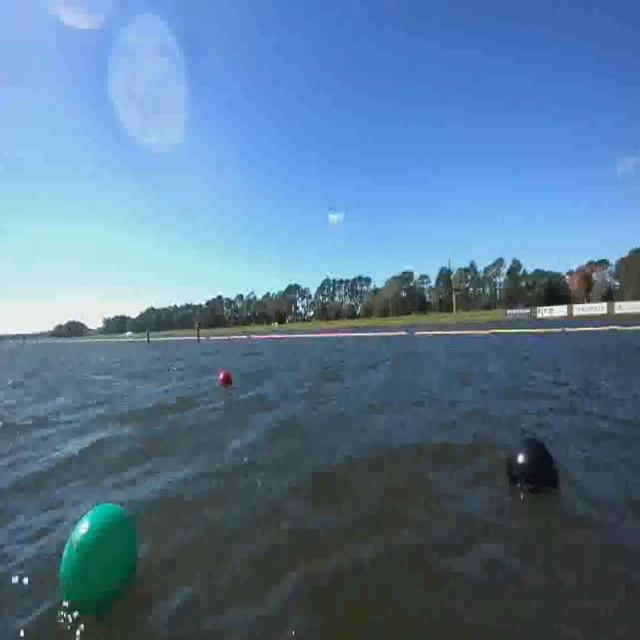black-buoy: (504, 426, 561, 497)
green-buoy: (48, 496, 148, 630)
red-buoy: (220, 372, 232, 388)
